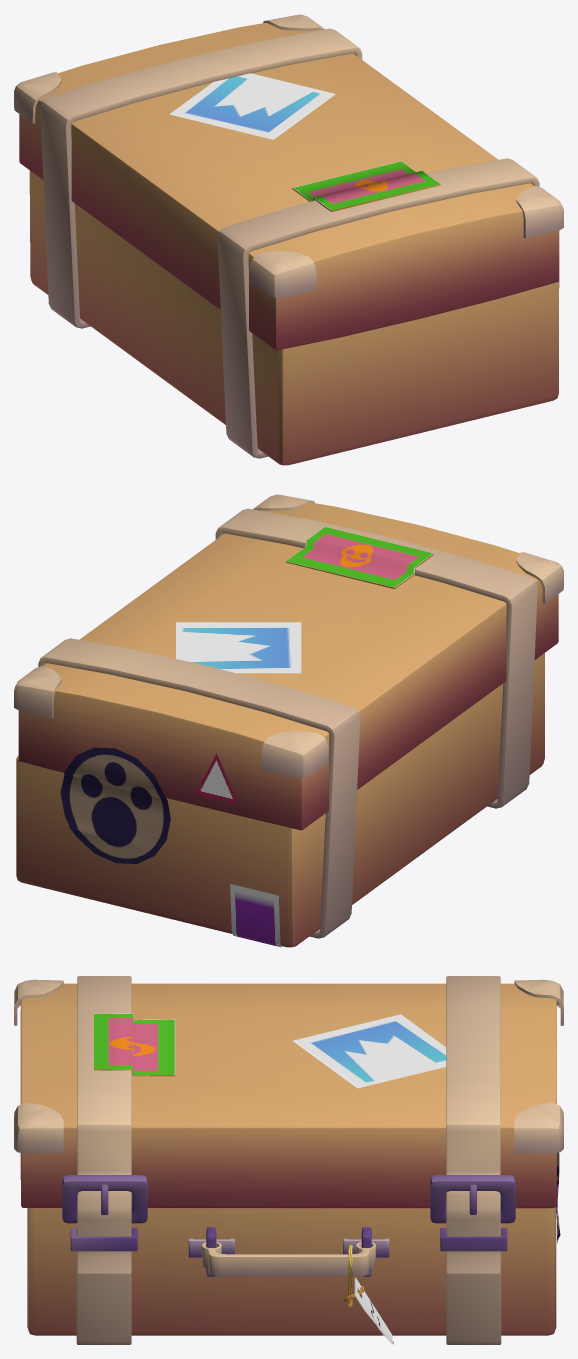
File: OscarAlemanAlva_4to_PrimerParcial_FBX.fbx
The picture shows the model from 3 angles, top to bottom: view 1: azimuth 30°, elevation 25°; view 2: azimuth 150°, elevation 25°; view 3: azimuth 270°, elevation 25°; orthographic projection. The views are drawn at different scales.
Parts seen in each view (by area): view 1: tapa_maleta, base_maleta, cinturon_maleta, tarjetas; view 2: tapa_maleta, base_maleta, cinturon_maleta, tarjetas; view 3: tapa_maleta, base_maleta, cinturon_maleta, tarjetas, Agarradera.
Boxes of the visible parts, box(x1,y1,x2,y2) form: tapa_maleta: box(14, 14, 563, 350); base_maleta: box(29, 170, 558, 465); cinturon_maleta: box(40, 28, 559, 458); tarjetas: box(169, 73, 440, 211); tapa_maleta: box(14, 494, 563, 830); base_maleta: box(16, 653, 544, 947); cinturon_maleta: box(38, 508, 537, 938); tarjetas: box(60, 527, 433, 947); tapa_maleta: box(14, 979, 563, 1207); base_maleta: box(27, 1207, 556, 1335); cinturon_maleta: box(62, 976, 515, 1344); tarjetas: box(94, 1013, 560, 1344); Agarradera: box(188, 1227, 389, 1276).
Bounding box in the file's own units: 58.37 × 35.22 × 75.7.
1 material, 1 textured.
